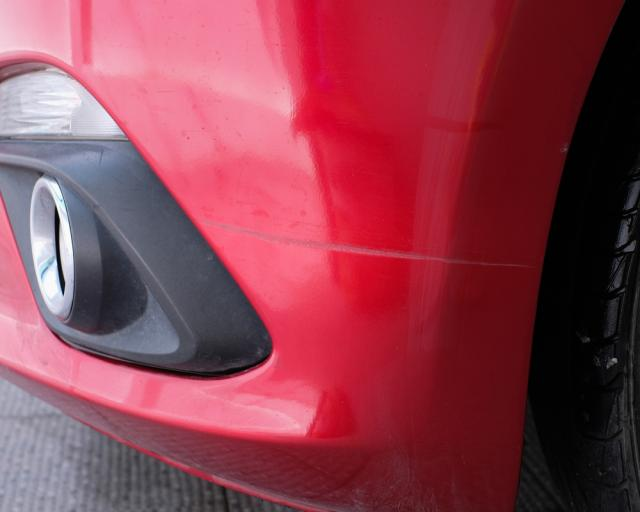scratch: (193, 214, 545, 275)
